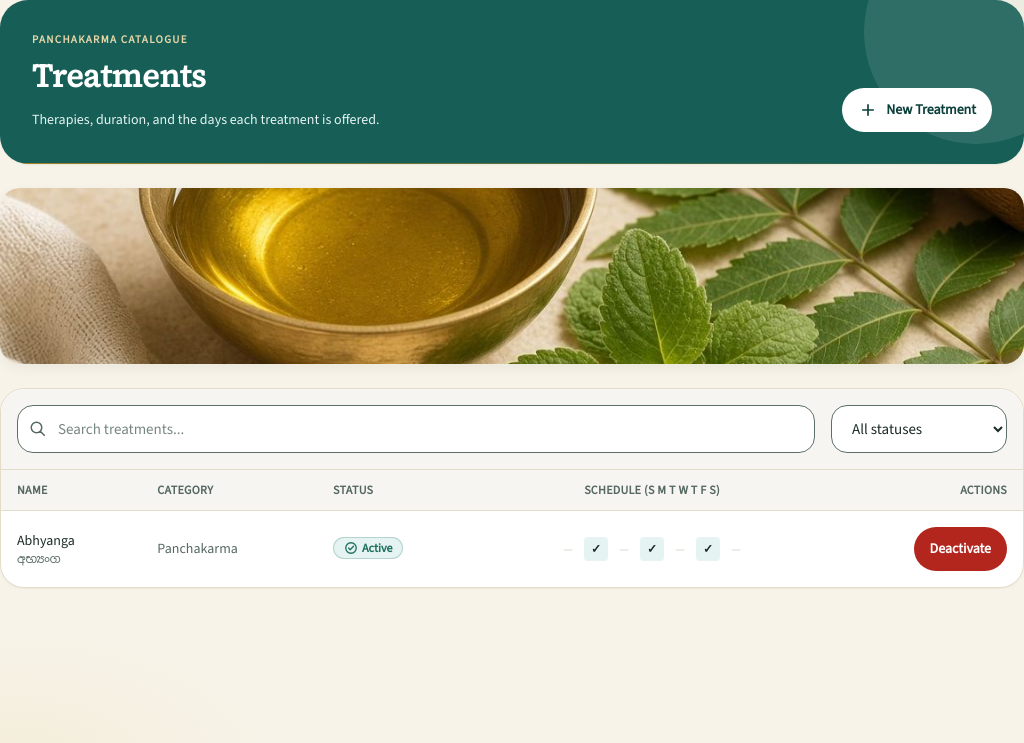
Scenario: TreatmentsView › opens inline schedule editor on row click and fetches details
Step 1. Click the text "Abhyanga" → point(46, 540), box [17, 531, 75, 550]
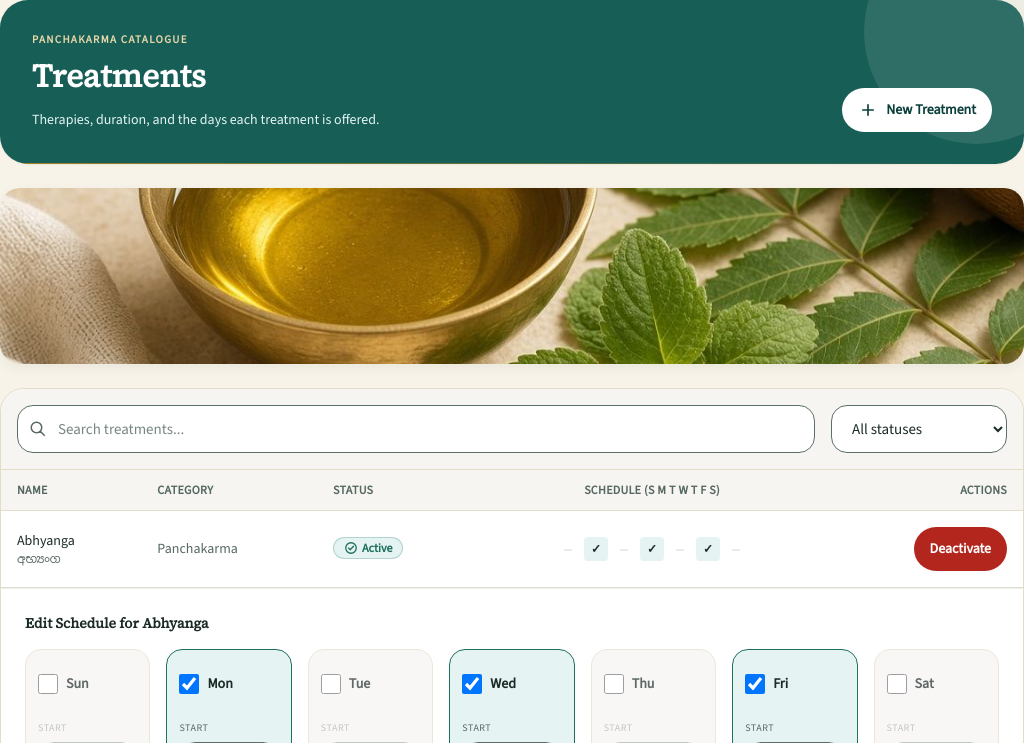
expect the heading "Edit Schedule for Abhyanga" is shown: met, box [25, 613, 209, 633]
expect the number of checkboxes is 7: met
expect the checkbox next to "Mon" is checked: met, box [179, 674, 199, 694]
